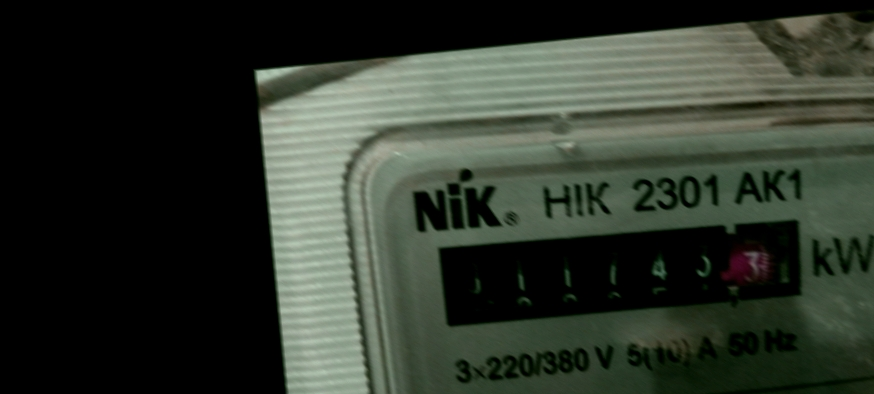0: (459, 256, 485, 297), (509, 251, 531, 293)
1: (556, 247, 576, 289)
3: (691, 236, 715, 281), (740, 245, 763, 284)
4: (646, 241, 670, 283)
7: (599, 242, 626, 288)
screen: (418, 197, 815, 342)
